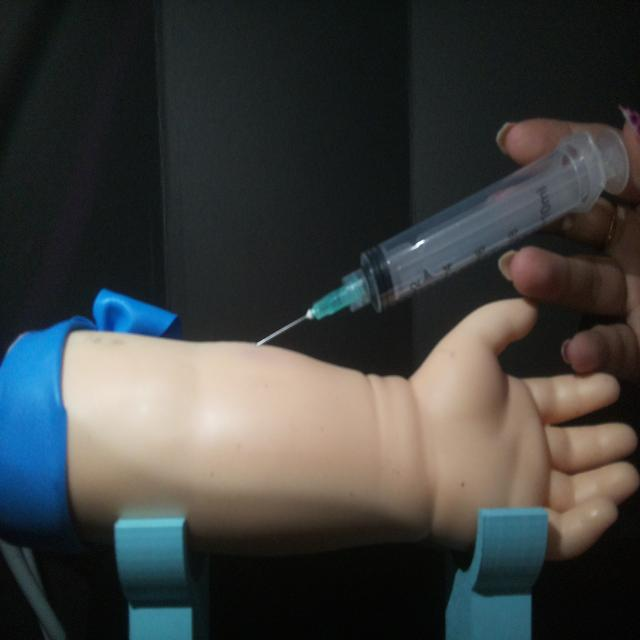27deg: (250, 118, 631, 350)
